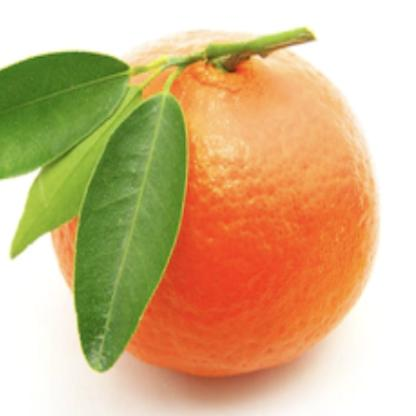fresh: (45, 30, 372, 386)
